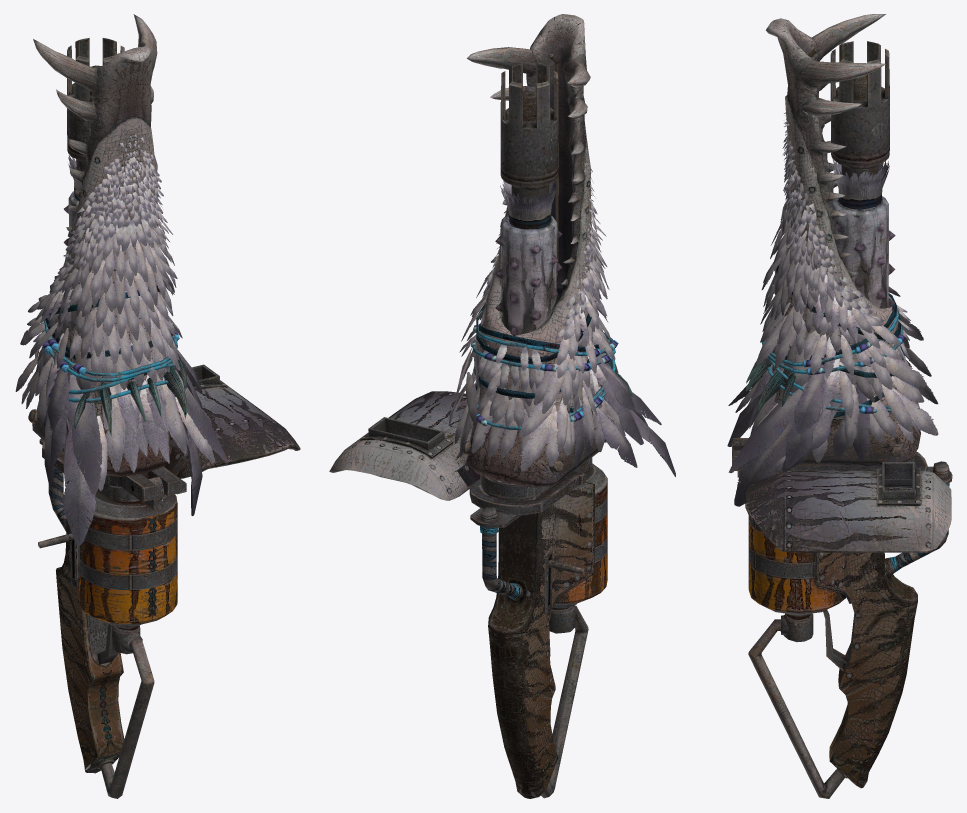
The model's file is hbg010.obj.
The picture shows the model from 3 angles, left to right: view 1: azimuth 30°, elevation 25°; view 2: azimuth 150°, elevation 25°; view 3: azimuth 270°, elevation 25°; orthographic projection.
Parts seen in each view (by area): view 1: hbg010_001_LOD_1, hbg010_000_LOD_1, hbg010_004_LOD_1, hbg010_003_LOD_1; view 2: hbg010_001_LOD_1, hbg010_000_LOD_1, hbg010_003_LOD_1, hbg010_004_LOD_1; view 3: hbg010_001_LOD_1, hbg010_000_LOD_1, hbg010_004_LOD_1, hbg010_003_LOD_1.
Boxes of the visible parts, x1,y1,x2,y2 form: hbg010_001_LOD_1: (15,14,228,545); hbg010_000_LOD_1: (38,438,177,798); hbg010_004_LOD_1: (42,364,300,494); hbg010_003_LOD_1: (63,38,124,245); hbg010_001_LOD_1: (448,14,675,498); hbg010_000_LOD_1: (470,457,607,798); hbg010_003_LOD_1: (495,63,562,335); hbg010_004_LOD_1: (329,391,586,515); hbg010_001_LOD_1: (727,14,938,506); hbg010_000_LOD_1: (737,446,952,798); hbg010_004_LOD_1: (745,452,951,552); hbg010_003_LOD_1: (830,41,895,308).
Size of the model in its own units: 72.46 by 212 by 60.49.
